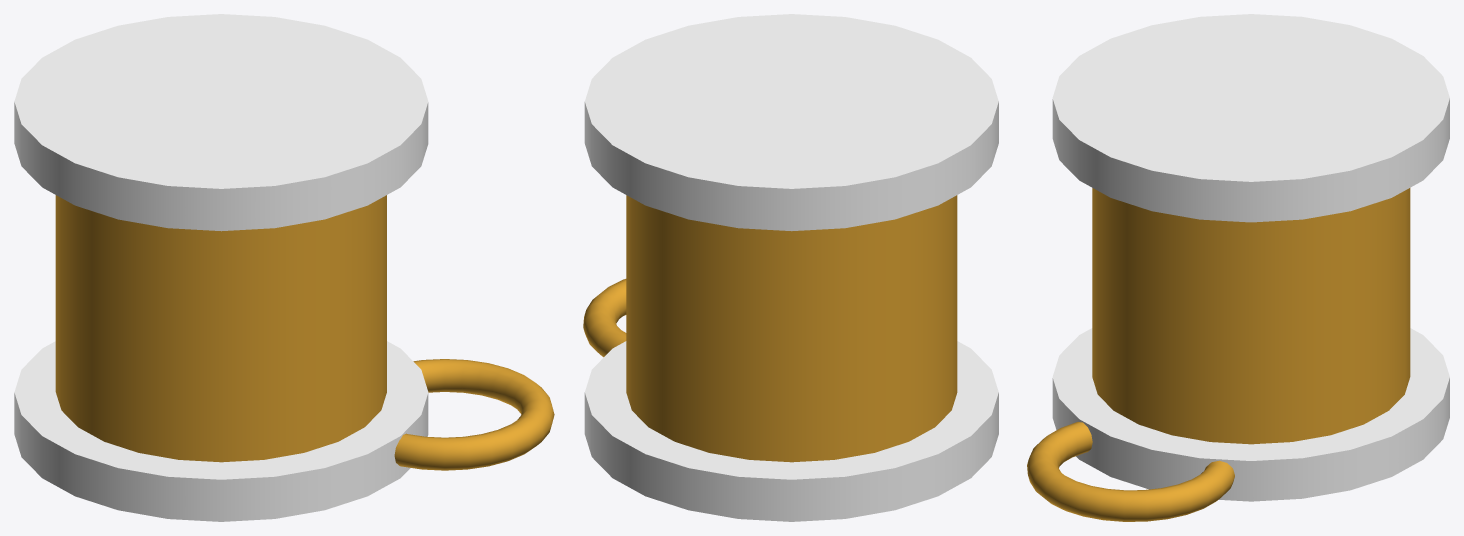
Rendered from herramienta_bobina.glb.
3 renders of one model, left to right at view 1: azimuth 30°, elevation 25°; view 2: azimuth 150°, elevation 25°; view 3: azimuth 270°, elevation 25°, orthographic. The views are drawn at different scales.
Visible parts, largest first — view 1: Disco (×2), Hilo, Cabo suelto; view 2: Disco (×2), Hilo, Cabo suelto; view 3: Disco (×2), Hilo, Cabo suelto.
Boxes of the visible parts, bbox=[...] form: Disco (×2): bbox=[14, 14, 428, 521]; Hilo: bbox=[55, 195, 386, 462]; Cabo suelto: bbox=[394, 359, 554, 470]; Disco (×2): bbox=[584, 14, 998, 521]; Hilo: bbox=[626, 195, 957, 462]; Cabo suelto: bbox=[583, 279, 626, 357]; Disco (×2): bbox=[1052, 14, 1449, 501]; Hilo: bbox=[1092, 188, 1410, 444]; Cabo suelto: bbox=[1027, 421, 1234, 521].
Bounding box in the file's own units: 0.4857 × 0.355 × 0.4257.
